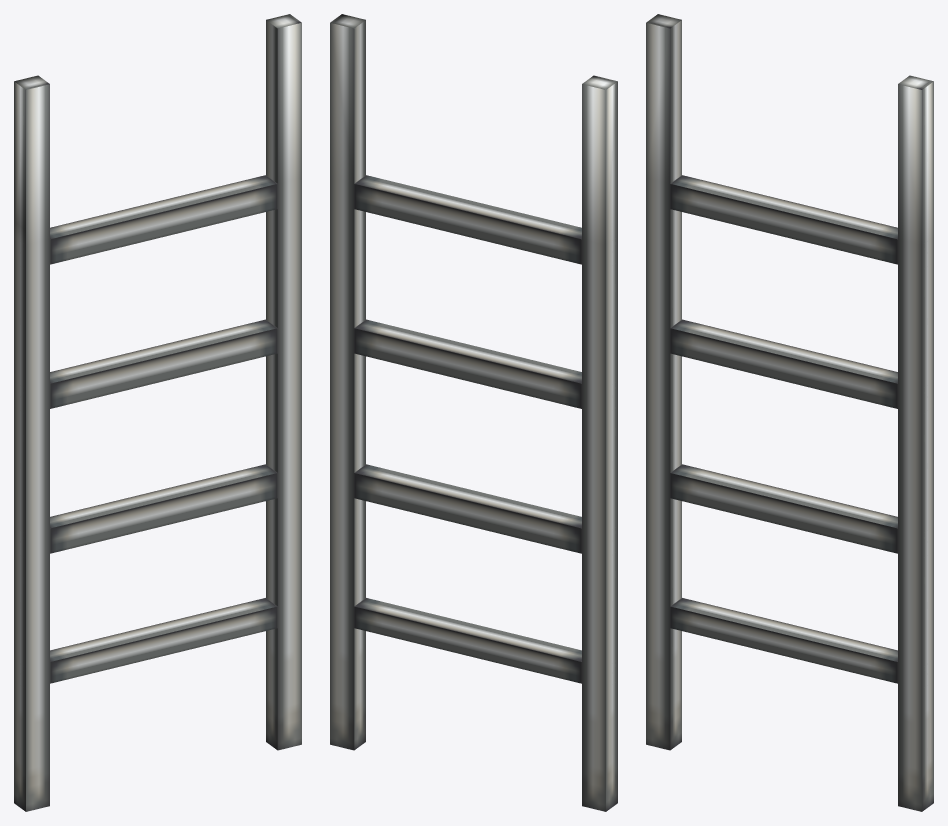
Rendered from Inside_Poly_Ladder_01.obj.
The picture shows the model from 3 angles, left to right: view 1: azimuth 30°, elevation 25°; view 2: azimuth 150°, elevation 25°; view 3: azimuth 330°, elevation 25°; orthographic projection.
Visible parts, largest first — view 1: Cube.001; view 2: Cube.001; view 3: Cube.001.
Part boxes in pixels (box(x1,y1,x2,y2)): Cube.001: box(14, 14, 301, 811); Cube.001: box(330, 14, 617, 811); Cube.001: box(646, 14, 933, 811).
Size of the model in its own units: 0.8 by 2 by 0.06.
Materials: 1 (1 with a texture image).
